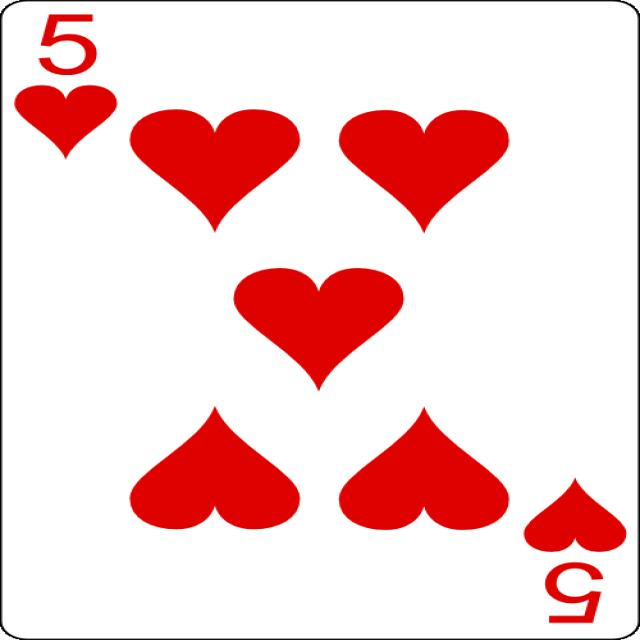Heart: (232, 266, 406, 392), (127, 406, 302, 530), (337, 406, 510, 531), (128, 108, 300, 233), (338, 109, 508, 234), (12, 84, 118, 160), (523, 477, 628, 552)
